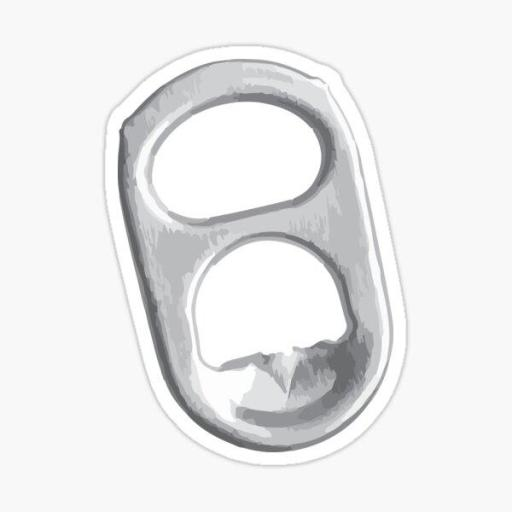pop tab: (98, 42, 416, 472)
